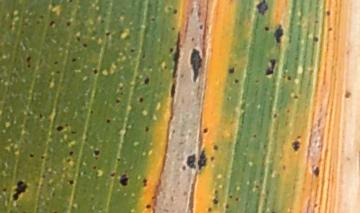tarspot: (188, 47, 203, 83), (171, 30, 181, 78), (196, 146, 208, 173), (12, 180, 28, 200), (273, 24, 285, 45), (185, 152, 197, 171), (264, 58, 276, 77), (255, 1, 269, 17), (310, 163, 320, 179), (290, 140, 302, 153), (118, 173, 129, 187), (169, 82, 177, 99), (343, 88, 352, 101), (226, 65, 237, 75), (141, 177, 149, 188), (143, 124, 151, 134), (211, 196, 219, 206), (91, 163, 99, 173), (291, 93, 300, 101), (128, 47, 137, 55), (55, 125, 65, 132), (212, 143, 219, 153), (325, 9, 332, 19), (170, 127, 177, 137), (24, 55, 32, 63), (104, 30, 112, 38), (37, 13, 45, 21), (293, 54, 301, 62), (280, 163, 288, 171), (144, 203, 153, 210), (92, 149, 101, 156), (209, 154, 216, 163), (263, 25, 270, 34), (312, 35, 319, 44), (143, 77, 150, 86), (81, 41, 88, 50), (74, 36, 83, 43), (99, 17, 106, 26), (286, 74, 293, 82), (91, 68, 98, 76), (70, 56, 77, 64), (114, 97, 121, 105), (108, 171, 116, 178), (51, 59, 59, 66), (65, 19, 72, 27), (251, 132, 258, 140), (118, 89, 125, 97), (38, 111, 44, 120), (224, 201, 230, 210), (53, 69, 62, 75), (7, 22, 13, 31), (326, 26, 333, 33), (233, 78, 240, 85), (25, 62, 32, 69), (48, 20, 55, 27), (93, 155, 100, 162), (162, 64, 169, 71), (40, 172, 47, 179), (313, 19, 320, 26), (181, 164, 187, 172), (202, 127, 208, 135), (172, 8, 178, 16), (198, 23, 204, 31), (66, 150, 74, 156), (28, 152, 34, 160), (168, 46, 174, 54), (206, 205, 212, 213), (70, 129, 78, 135), (89, 108, 95, 116), (294, 134, 302, 140), (149, 16, 157, 22), (254, 78, 262, 84), (312, 201, 318, 209), (190, 35, 195, 44), (68, 179, 74, 186), (138, 96, 144, 103), (170, 25, 176, 32), (233, 196, 240, 202), (213, 188, 219, 195), (115, 157, 122, 163), (65, 157, 71, 164), (254, 183, 260, 190), (284, 107, 291, 113), (228, 193, 233, 201), (1, 187, 7, 193), (39, 154, 45, 160), (34, 19, 40, 25), (272, 112, 277, 119), (118, 85, 125, 90), (105, 118, 110, 124), (68, 1, 73, 4)
